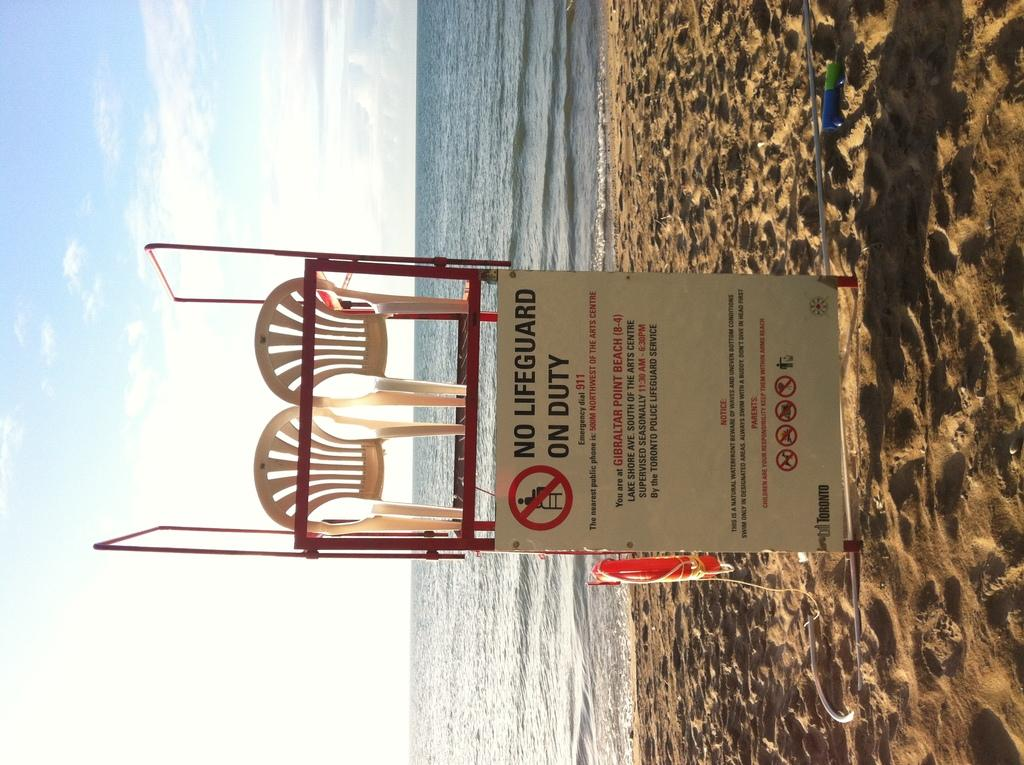Chair: (256, 261, 483, 403), (250, 403, 461, 539)
